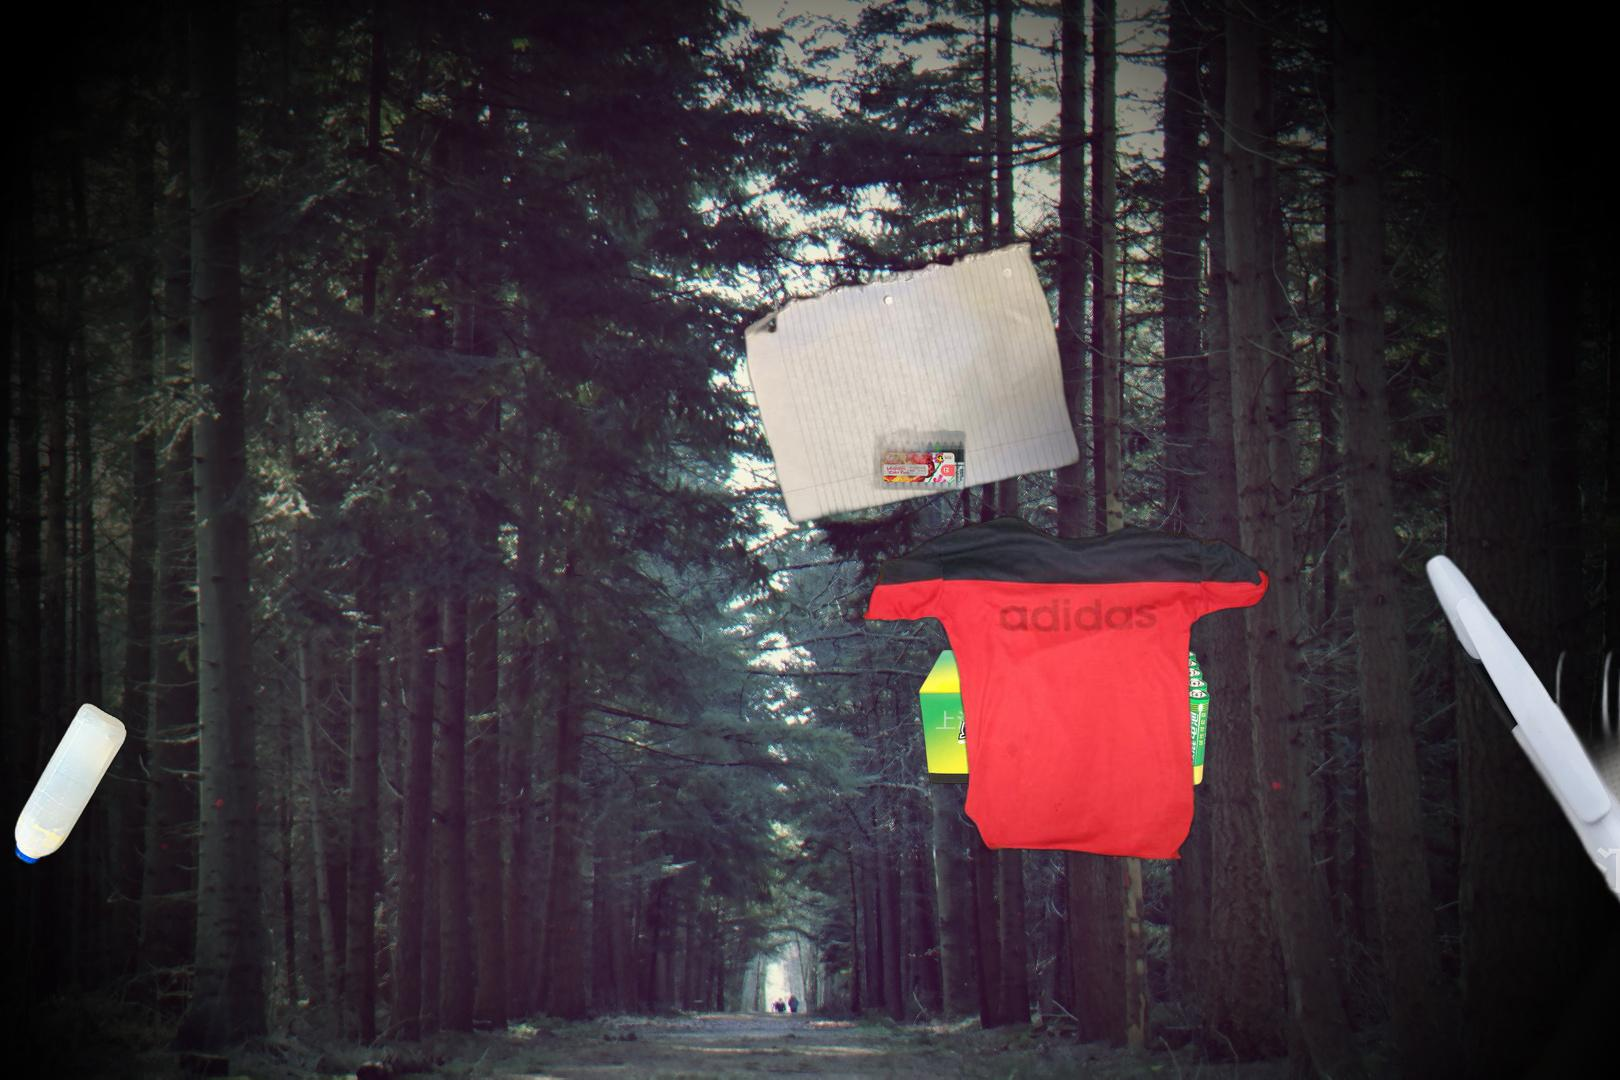battery: (917, 647, 1213, 788)
clothes: (858, 512, 1275, 859)
paper: (739, 237, 1085, 528)
penholder: (1410, 533, 1620, 1080), (843, 325, 1011, 495)
plastic-bottles: (10, 697, 133, 870)
